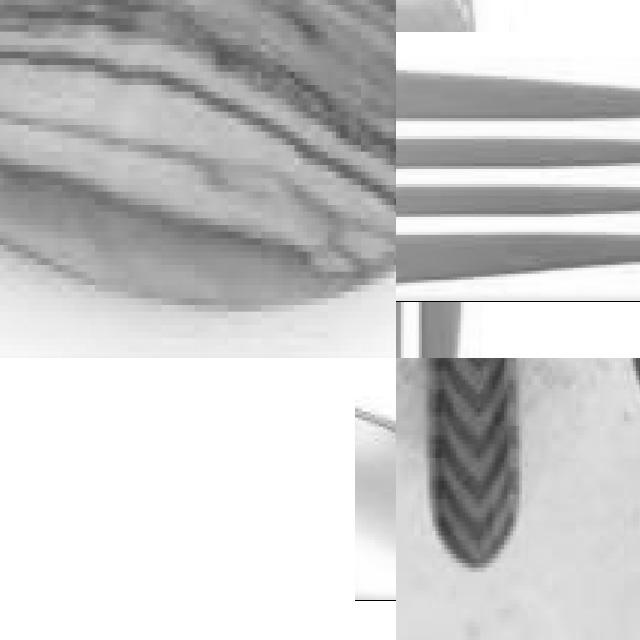forks: (396, 0, 601, 358)
spoons: (0, 0, 396, 358)
